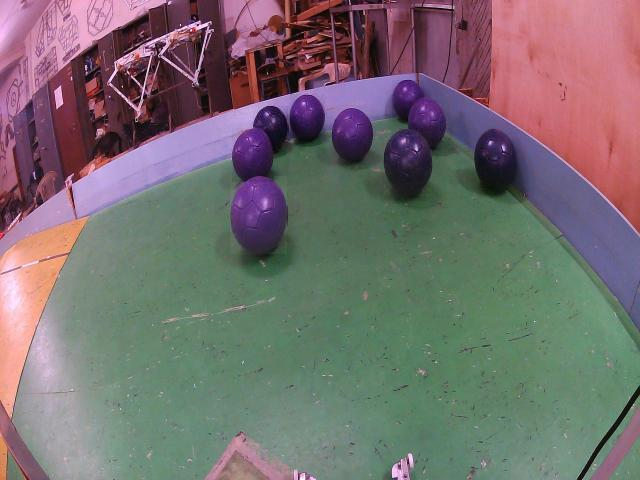jambhalya: (231, 176, 287, 254), (233, 128, 274, 182), (332, 108, 372, 162), (408, 97, 447, 148), (290, 95, 325, 141), (393, 80, 424, 120)
kaalyya: (384, 130, 432, 196), (475, 128, 516, 192), (254, 106, 288, 151)
